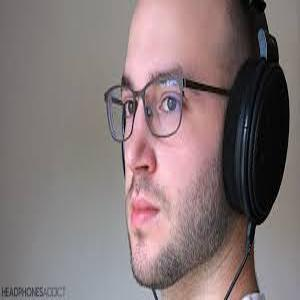Headphones: (117, 1, 293, 222)
